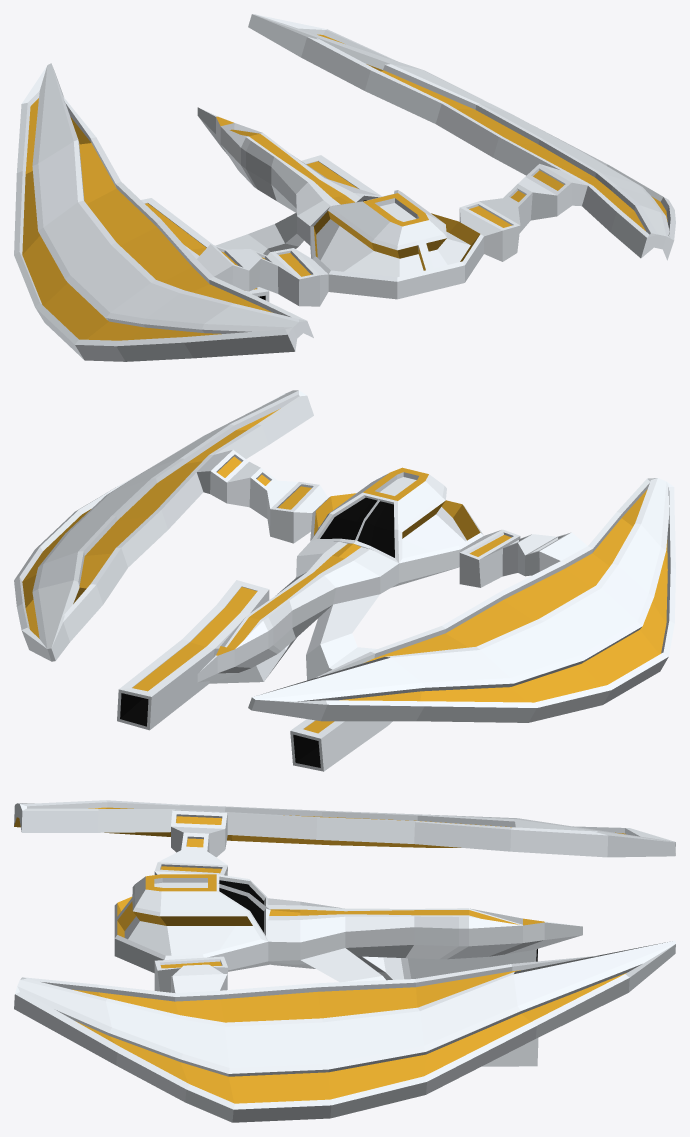
Rendered from SpaceShip1.fbx.
3 views of the same model, one above another, from view 1: azimuth 30°, elevation 25°; view 2: azimuth 150°, elevation 25°; view 3: azimuth 270°, elevation 25° (orthographic).
Parts seen in each view (by area): view 1: Ship; view 2: Ship; view 3: Ship.
Part boxes in pixels (x1,y1,x2,y2): Ship: (14, 14, 675, 361); Ship: (14, 390, 675, 771); Ship: (14, 800, 675, 1122).
Bounding box in the file's own units: 5138 × 1114 × 4943.
